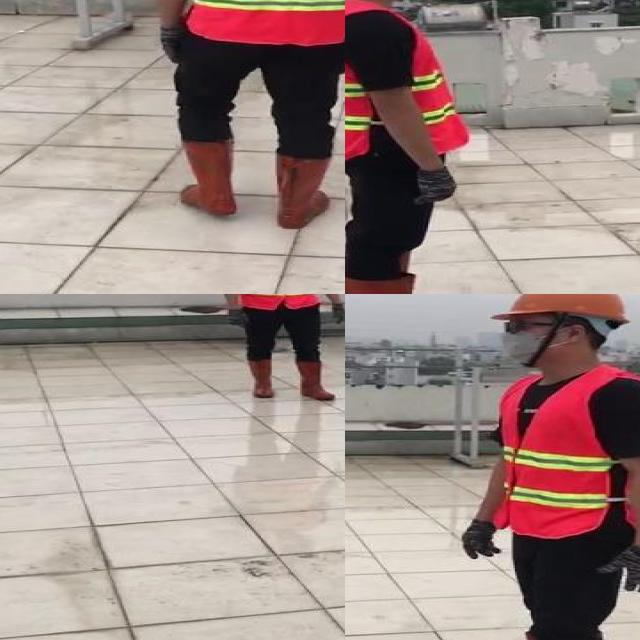boots: (179, 139, 240, 216), (275, 153, 332, 233), (371, 249, 463, 294), (345, 268, 466, 294), (294, 360, 336, 403), (245, 359, 273, 401)
face_mask: (496, 314, 558, 362)
glasses: (493, 314, 535, 336)
hand_glove: (598, 543, 640, 595), (408, 167, 466, 204), (462, 518, 501, 561), (154, 28, 187, 63), (218, 302, 252, 328), (335, 35, 345, 73), (330, 303, 345, 326)
head_helmet: (498, 294, 629, 321)
person: (437, 294, 640, 640), (150, 0, 345, 242), (345, 0, 487, 294), (213, 294, 345, 406)
vest: (496, 369, 630, 533), (345, 0, 472, 162), (189, 0, 345, 42)
